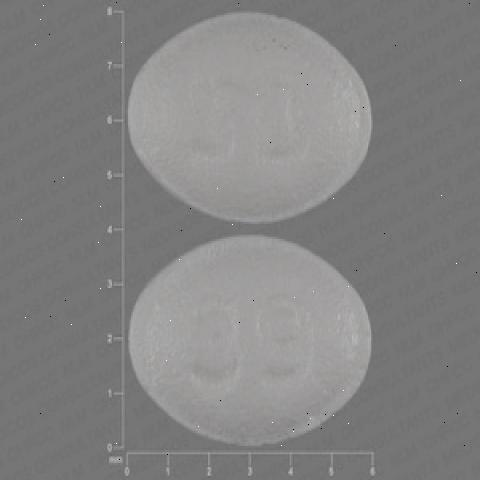Pill: (122, 224, 404, 454), (118, 8, 405, 223)
